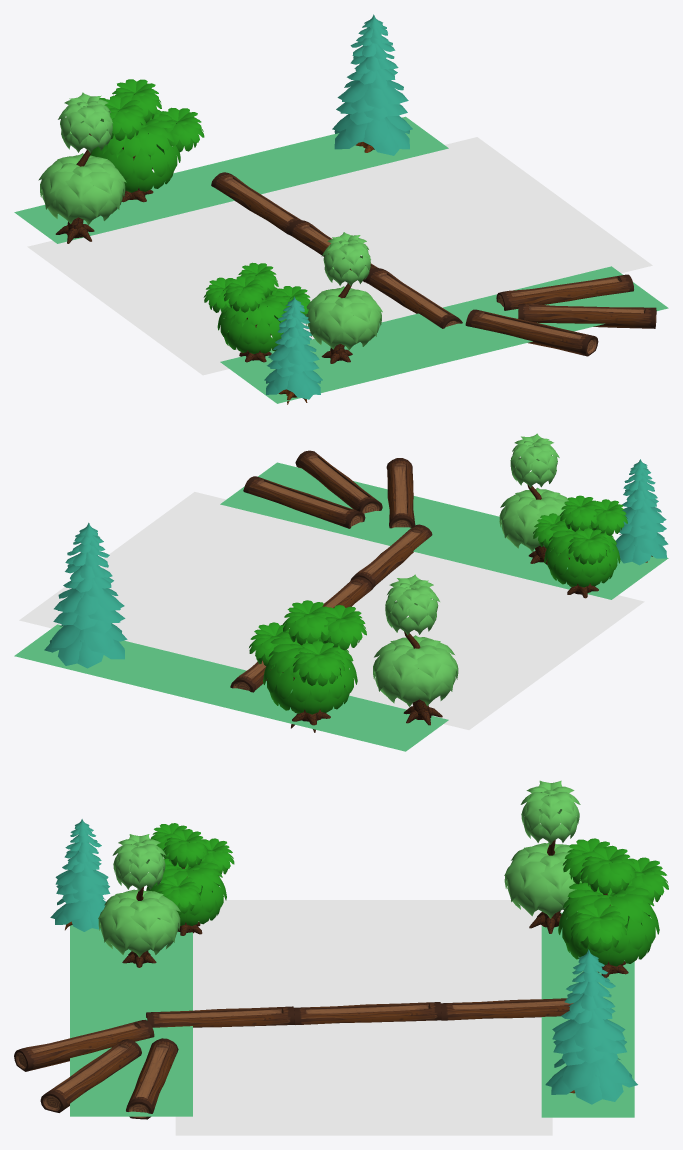
3 views of the same model, one above another, from view 1: azimuth 30°, elevation 25°; view 2: azimuth 150°, elevation 25°; view 3: azimuth 270°, elevation 25° (orthographic). The views are drawn at different scales.
Parts seen in each view (by area): view 1: WaterBlock_50m, Ground_2, Ground__1_, TreeOak__3_, Leaves7_4, TreeSpruce__6_, Leaves7_5, TreeOak__4_, TreeSpruce__5__1, log__2_, log, log__1_ (+3 smaller); view 2: WaterBlock_50m, Ground_2, Ground__1_, TreeOak__3_, Leaves7_4, TreeSpruce__6_, TreeOak__4_, Leaves7_5, TreeSpruce__5__1, log__1_, log__2_, log (+3 smaller); view 3: WaterBlock_50m, Ground_2, TreeOak__3_, TreeSpruce__6_, Ground__1_, Leaves7_4, Leaves7_5, TreeOak__4_, TreeSpruce__5__1, log, log__4_, log__3_ (+3 smaller).
Part boxes in pixels (<box>): WaterBlock_50m: <box>27,137,652,375</box>; Ground_2: <box>220,266,668,403</box>; Ground__1_: <box>14,116,448,243</box>; TreeOak__3_: <box>90,79,204,202</box>; Leaves7_4: <box>38,92,126,243</box>; TreeSpruce__6_: <box>332,14,412,155</box>; Leaves7_5: <box>305,232,382,363</box>; TreeOak__4_: <box>203,262,310,362</box>; TreeSpruce__5__1: <box>264,296,322,404</box>; log__2_: <box>518,303,656,328</box>; log: <box>465,309,598,356</box>; log__1_: <box>496,274,633,310</box>; WaterBlock_50m: <box>19,492,644,729</box>; Ground_2: <box>220,462,668,599</box>; Ground__1_: <box>14,624,448,751</box>; TreeOak__3_: <box>249,600,366,732</box>; Leaves7_4: <box>373,574,458,725</box>; TreeSpruce__6_: <box>44,522,127,668</box>; TreeOak__4_: <box>533,495,627,598</box>; Leaves7_5: <box>499,433,568,564</box>; TreeSpruce__5__1: <box>613,459,668,565</box>; log__1_: <box>243,476,365,528</box>; log__2_: <box>295,450,382,513</box>; log: <box>386,458,415,528</box>; WaterBlock_50m: <box>175,900,552,1135</box>; Ground_2: <box>70,925,192,1116</box>; TreeOak__3_: <box>558,838,668,977</box>; TreeSpruce__6_: <box>545,949,637,1104</box>; Ground__1_: <box>541,912,634,1117</box>; Leaves7_4: <box>504,780,581,933</box>; Leaves7_5: <box>98,834,180,967</box>; TreeOak__4_: <box>146,823,234,935</box>; TreeSpruce__5__1: <box>50,819,110,931</box>; log: <box>14,1019,154,1071</box>; log__4_: <box>294,1002,441,1024</box>; log__3_: <box>146,1006,294,1027</box>.
Size of the model in its own units: 7.01 by 2.12 by 8.24.
Materials: 8 (3 with a texture image).
